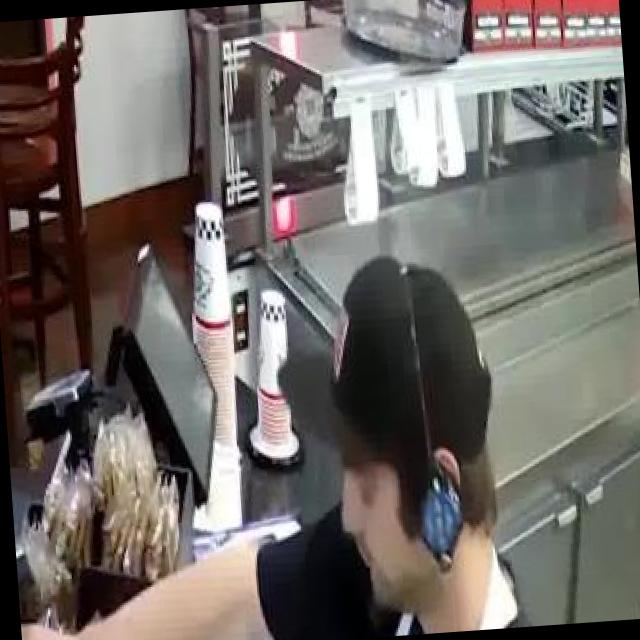Guns: (14, 527, 57, 640)
